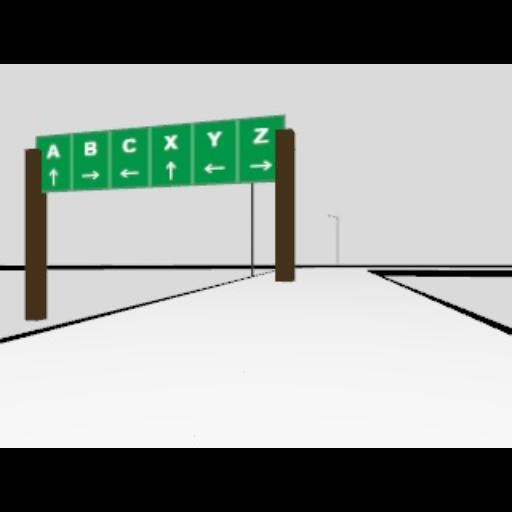A: (45, 144, 59, 158)
B: (84, 139, 96, 155)
C: (122, 138, 136, 152)
Left: (203, 162, 227, 174), (118, 168, 140, 178)
Right: (248, 160, 272, 172), (80, 169, 100, 179)
Straight: (164, 160, 176, 180), (48, 168, 58, 186)
X: (163, 133, 177, 149)
Y: (207, 129, 225, 147)
Z: (251, 126, 269, 144)
